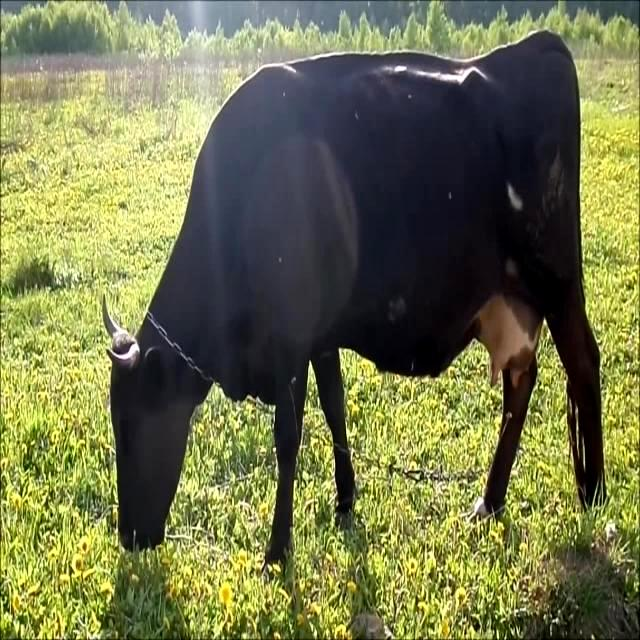COW: (104, 32, 605, 563)
